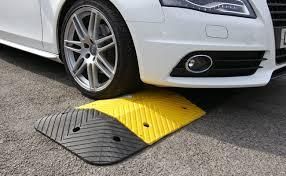Bump: (40, 92, 238, 169)
